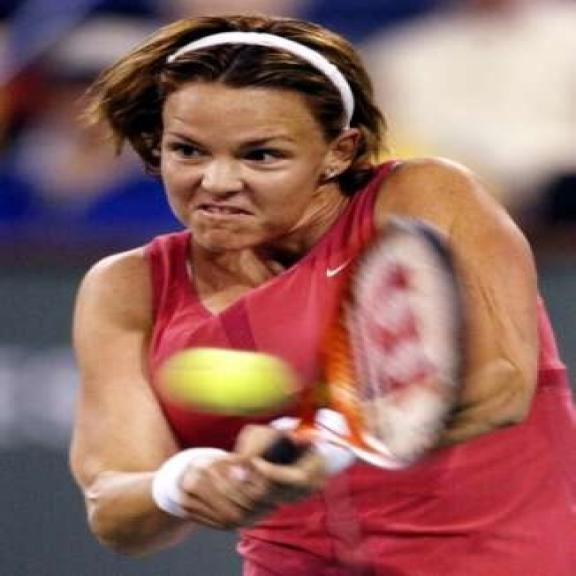face: (164, 81, 363, 250)
